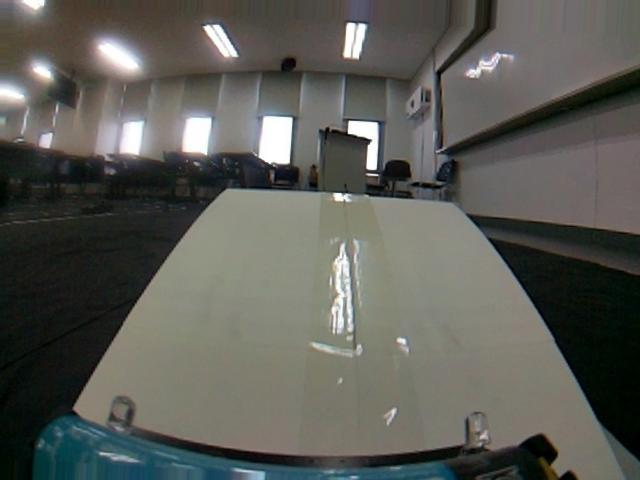hill_up: (9, 175, 640, 480)
